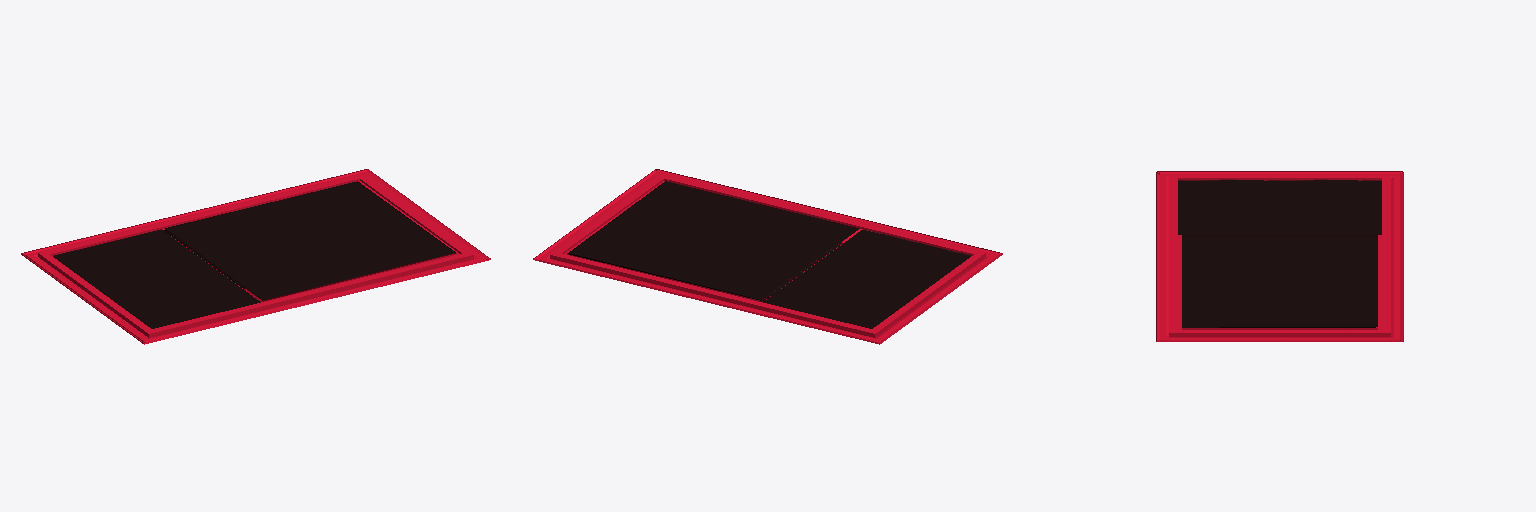
3 renders of one model, left to right at view 1: azimuth 30°, elevation 25°; view 2: azimuth 150°, elevation 25°; view 3: azimuth 270°, elevation 25°, orthographic.
Visible parts, largest first — view 1: Plan; view 2: Plan; view 3: Plan.
Boxes of the visible parts, x1,y1,x2,y2 form: Plan: [21, 169, 490, 344]; Plan: [533, 169, 1002, 344]; Plan: [1156, 171, 1403, 341].
Size of the model in its own units: 4.56 by 0.0525 by 2.81.
Materials: 1 (1 with a texture image).